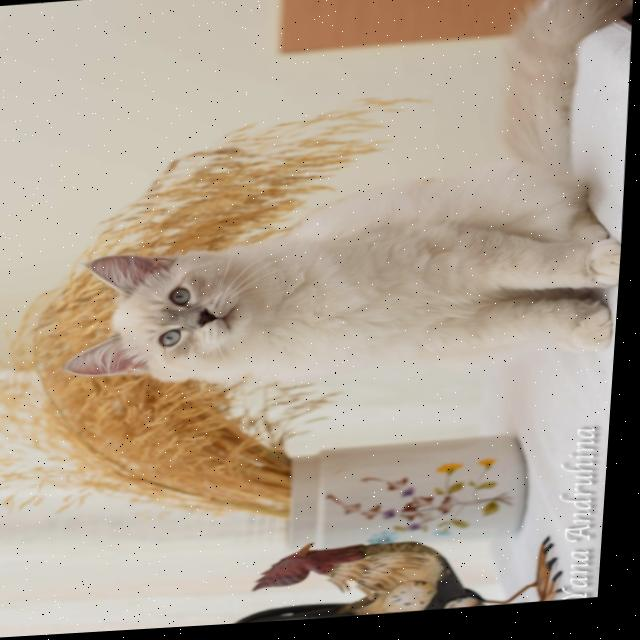Neva Masquerade: (55, 0, 640, 403)
